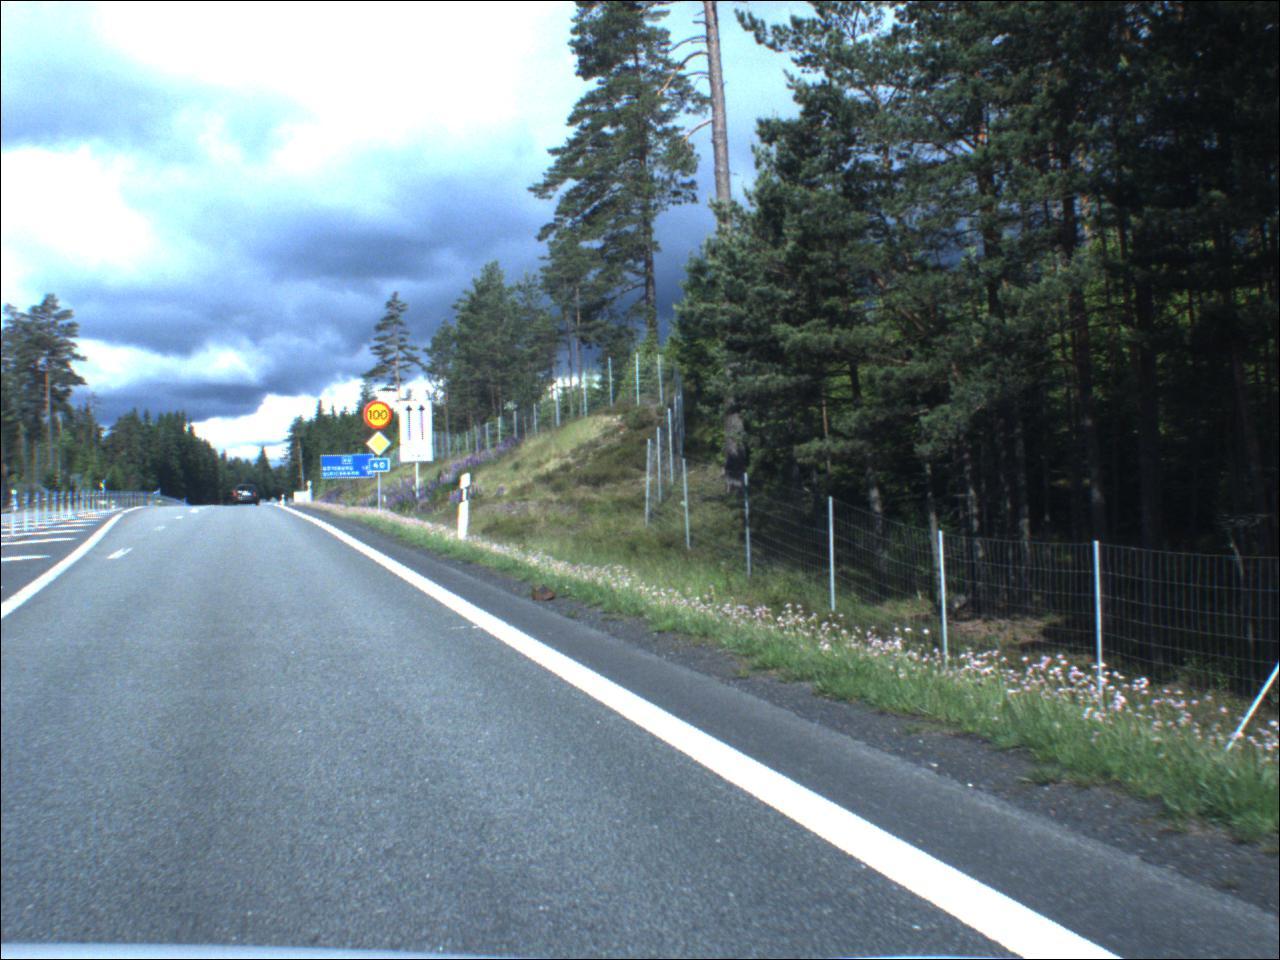100_SIGN: (365, 403, 396, 432)
PRIORITY_ROAD: (367, 433, 394, 459)
